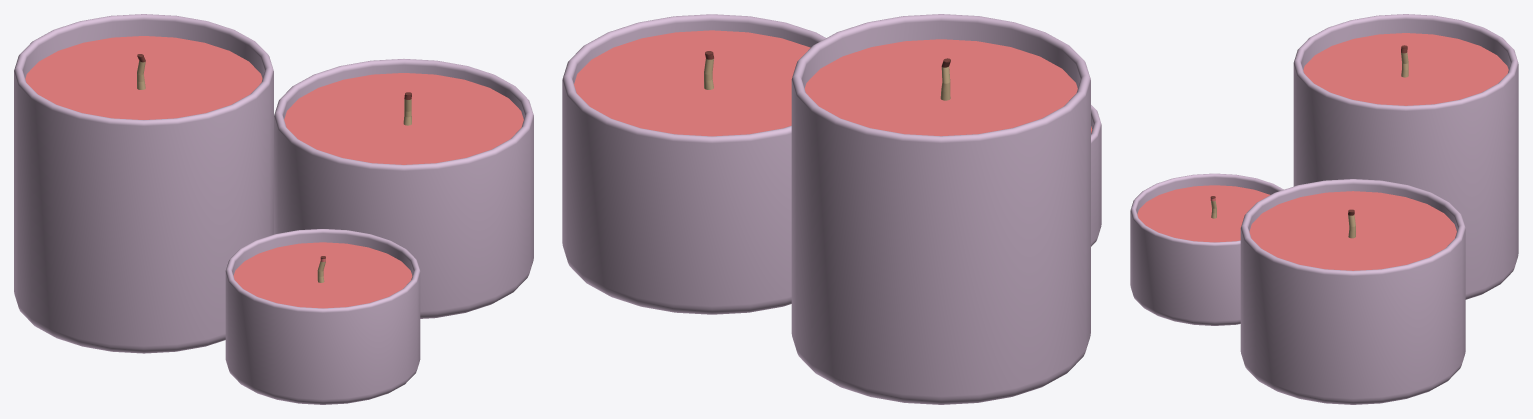
The model's file is Lilin 1.fbx.
3 renders of one model, left to right at view 1: azimuth 30°, elevation 25°; view 2: azimuth 150°, elevation 25°; view 3: azimuth 270°, elevation 25°, orthographic. The views are drawn at different scales.
Visible parts, largest first — view 1: Group5, Group8, Group2, Group9, Group6, Group3; view 2: Group5, Group8, Group6, Group9, Group2; view 3: Group8, Group5, Group9, Group6, Group2, Group3.
Part boxes in pixels (box(x1,y1,x2,y2)): Group5: box(14, 14, 273, 353); Group8: box(274, 59, 533, 318); Group2: box(225, 229, 420, 404); Group9: box(284, 73, 523, 164); Group6: box(25, 36, 262, 119); Group3: box(233, 242, 412, 308); Group5: box(791, 14, 1090, 404); Group8: box(562, 14, 825, 314); Group6: box(804, 39, 1077, 136); Group9: box(574, 30, 810, 136); Group2: box(1091, 105, 1101, 246); Group8: box(1240, 179, 1465, 404); Group5: box(1293, 14, 1518, 299); Group9: box(1249, 191, 1456, 270); Group6: box(1303, 33, 1508, 105); Group2: box(1130, 173, 1283, 325); Group3: box(1137, 185, 1269, 242).
Bounding box in the file's own units: 12.12 × 6.35 × 10.35.
